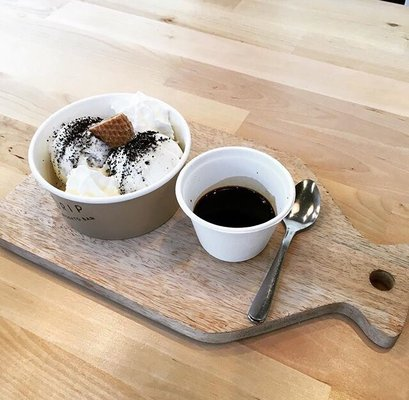pizza: (175, 146, 300, 263)
salad: (248, 179, 321, 321)
sushi: (27, 92, 192, 241), (174, 145, 298, 263)
